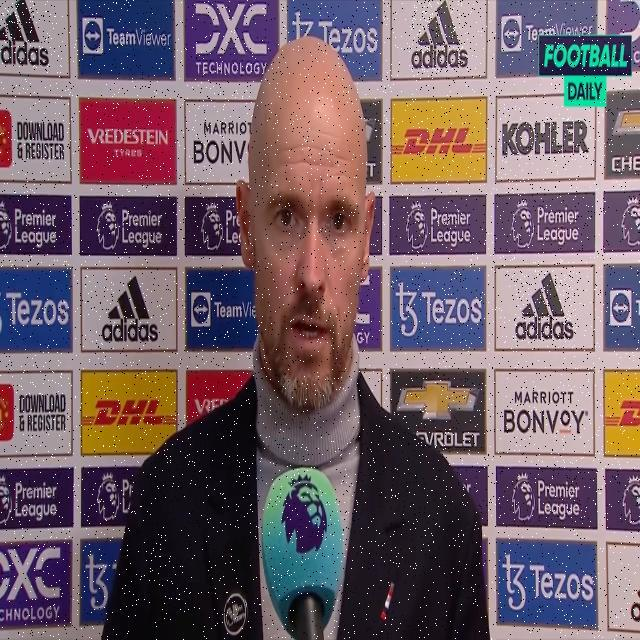Adidas: (514, 272, 576, 344), (411, 0, 469, 72), (101, 273, 159, 345), (1, 0, 50, 67)
Chevrolet: (398, 377, 480, 448)
Kohler: (502, 118, 589, 160)
TeamViewer: (501, 13, 594, 53), (82, 17, 172, 57)
